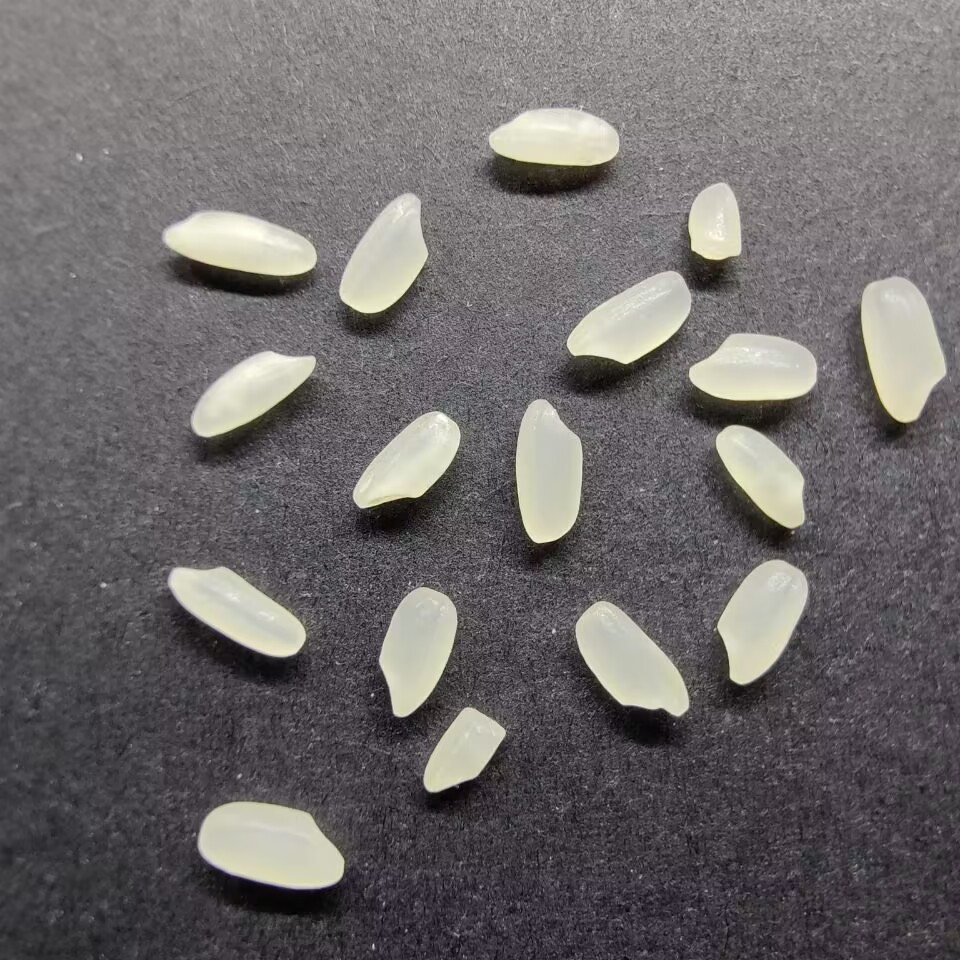broken: (420, 702, 507, 794), (685, 180, 743, 261)
rice: (573, 597, 691, 720), (165, 563, 306, 660), (857, 275, 947, 425), (197, 801, 345, 889), (565, 267, 693, 367), (188, 347, 320, 441), (716, 559, 809, 685), (351, 408, 463, 512), (337, 190, 429, 315), (160, 208, 319, 278), (376, 585, 458, 718), (713, 421, 808, 531), (514, 397, 584, 545), (687, 330, 818, 402), (485, 105, 623, 166)
